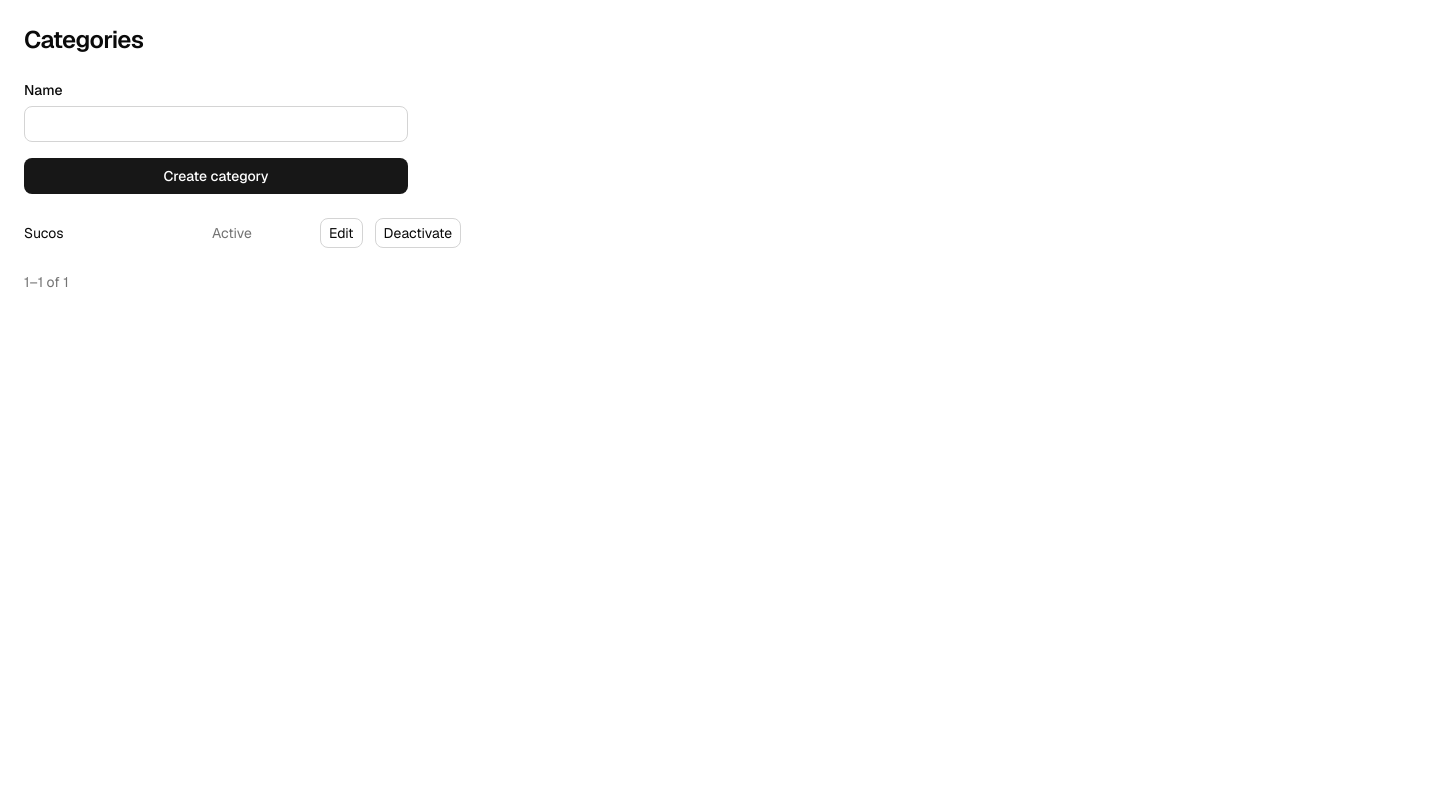
Test: categories panel › a refused status change surfaces as a toast, never inside the form
Expected: the text "Sucos" is shown, [24,224,64,242]
Click the button with aria-label "Deactivate Sucos" at (418, 233), box [375,218,461,248]
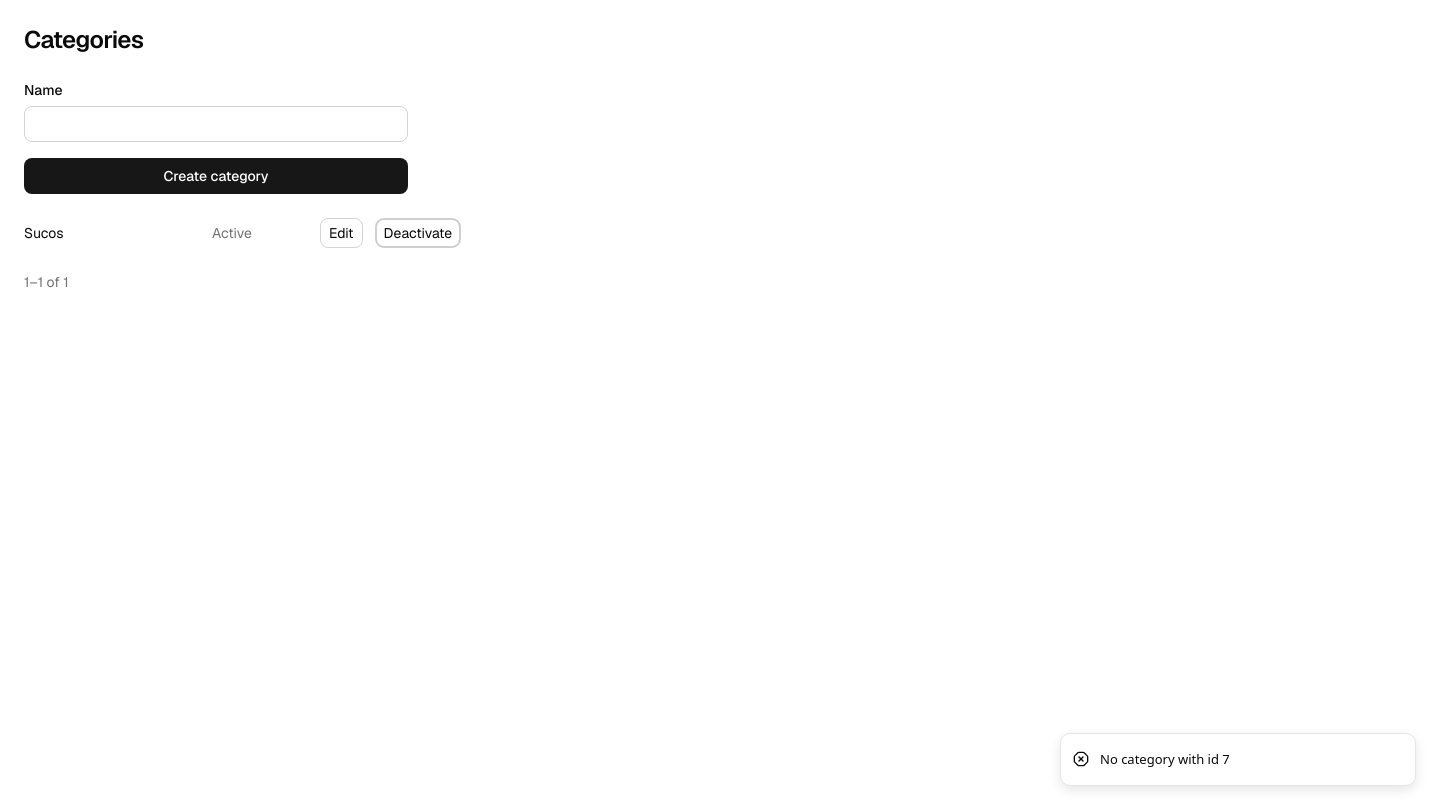
Expected: the text "No category with id 7" is shown, [1100,750,1230,769]
